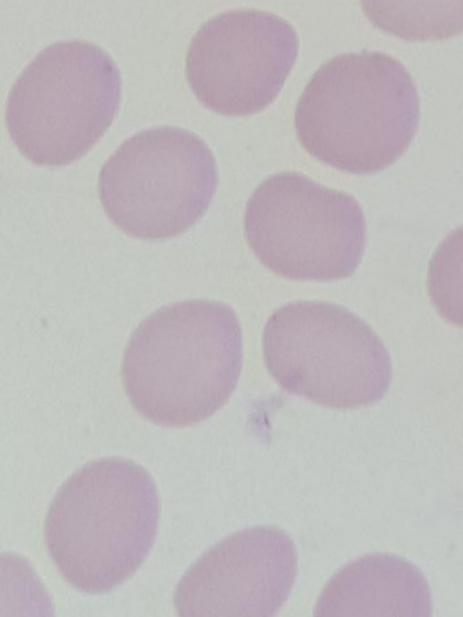Uninfected: (122, 302, 246, 430), (47, 456, 156, 598), (5, 39, 123, 167), (298, 51, 415, 175), (265, 302, 391, 416), (102, 131, 218, 246), (247, 172, 362, 281), (187, 11, 295, 116), (173, 527, 298, 617)
